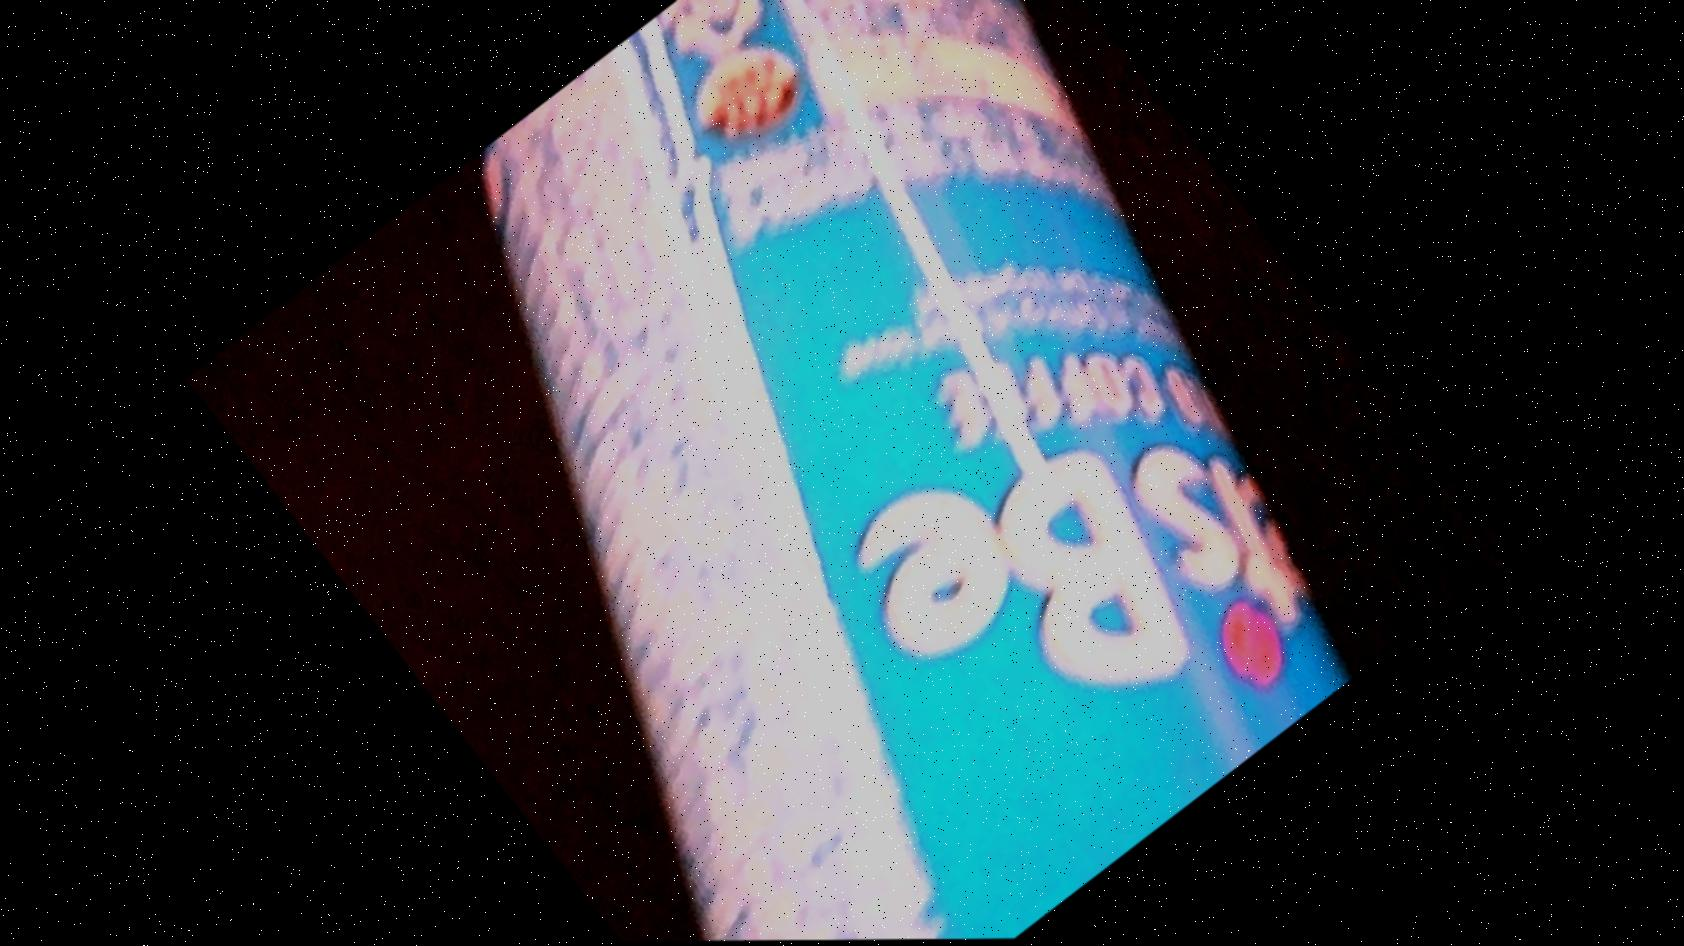letsbe: (179, 0, 1486, 945)
